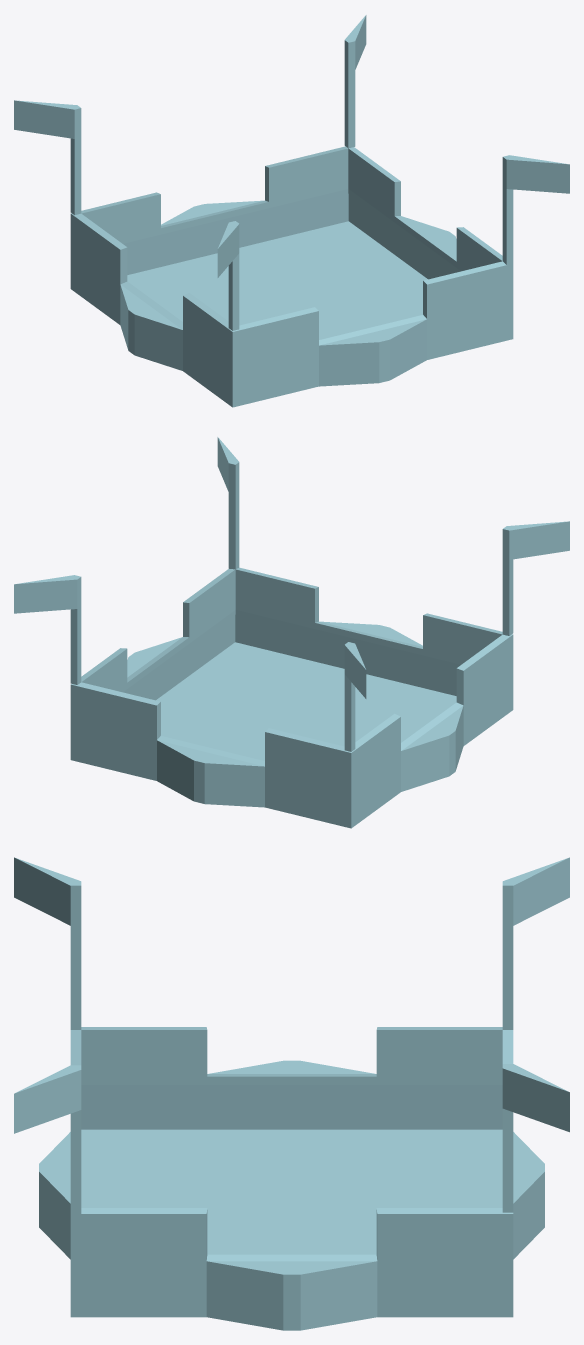
The model's file is general.obj.
3 views of the same model, one above another, from view 1: azimuth 30°, elevation 25°; view 2: azimuth 150°, elevation 25°; view 3: azimuth 270°, elevation 25° (orthographic). The views are drawn at different scales.
Visible parts, largest first — view 1: general_city_towerSquare_middleC; view 2: general_city_towerSquare_middleC; view 3: general_city_towerSquare_middleC.
Boxes of the visible parts, left/top/right/bottom form: general_city_towerSquare_middleC: left=14, top=15, right=569, bottom=407; general_city_towerSquare_middleC: left=14, top=437, right=569, bottom=828; general_city_towerSquare_middleC: left=14, top=857, right=569, bottom=1330.
Size of the model in its own units: 1.26 by 0.6205 by 1.26.
